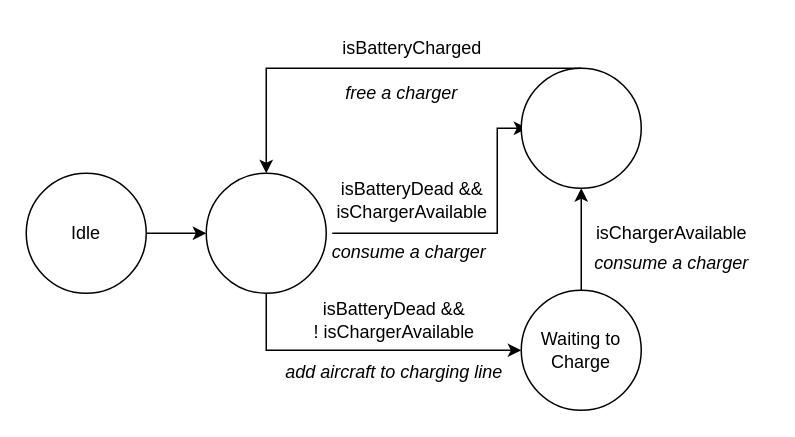
The diagram is 795 pixels wide and 437 high, and some of its shapes have lost their labels. Here are the shapes that lost their labels. From the top down, the centre of each, then its label:
At (580,127): "Charging".
At (265,232): "Flying".
